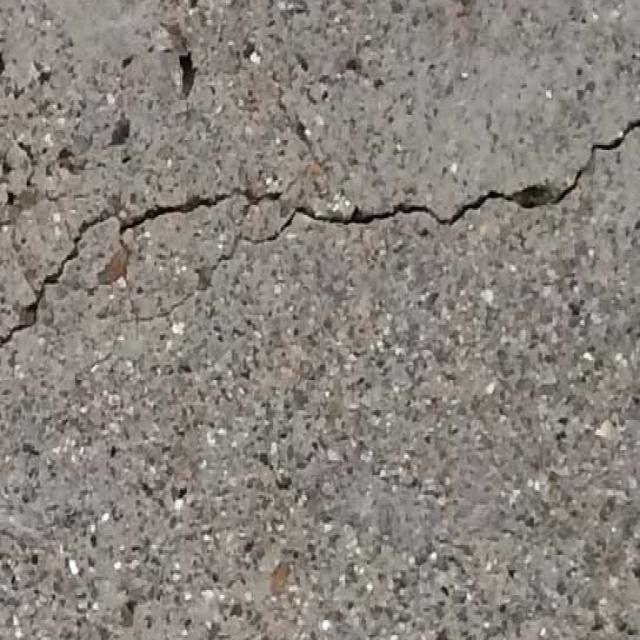Transverse: (0, 111, 640, 358)
